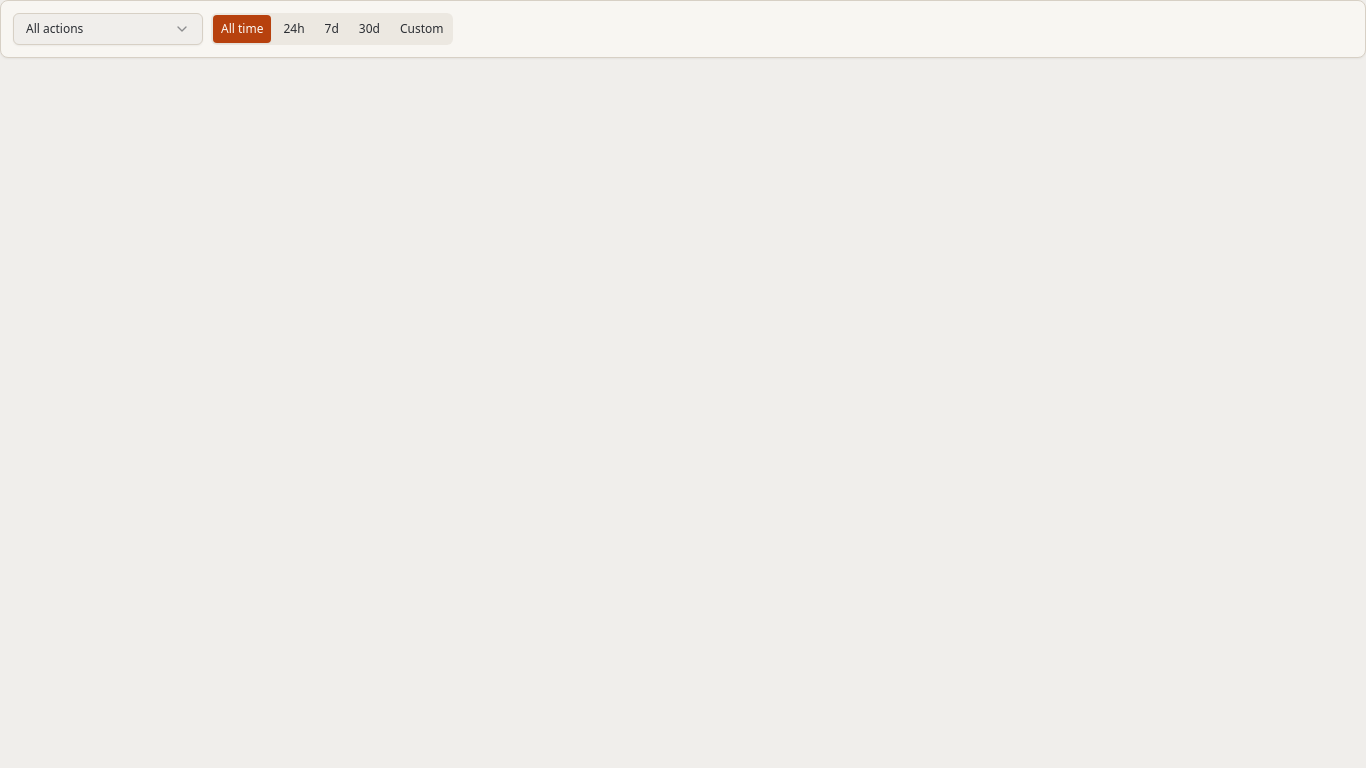
Test: audit action combobox › exposes accessible names on the opened popover dialog and search combobox
Click the dropdown named "Filter by action".
click(108, 29)  # box [13,13,203,45]
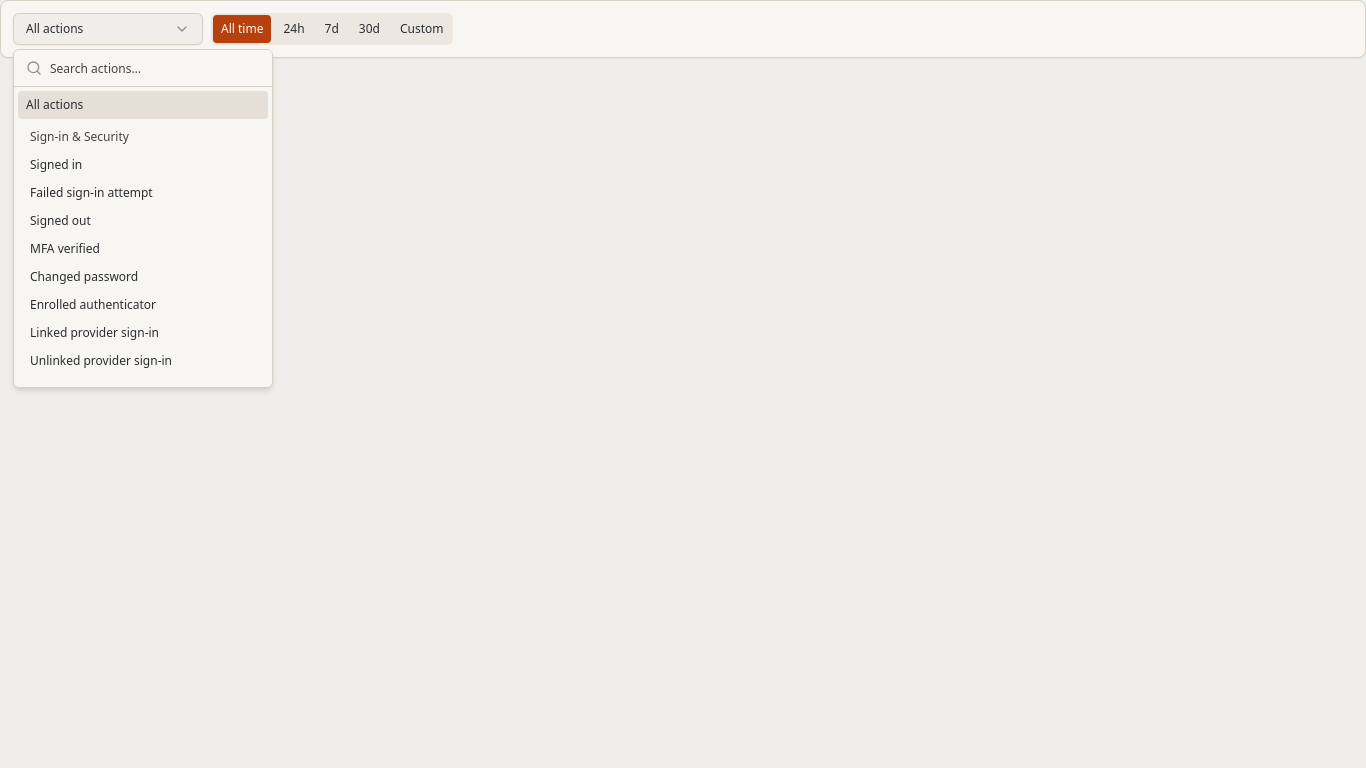
Now the dialog named "Filter by action" is shown, box [13,49,273,388]
Now the dropdown labelled "Search actions" is shown, box [50,50,260,86]
